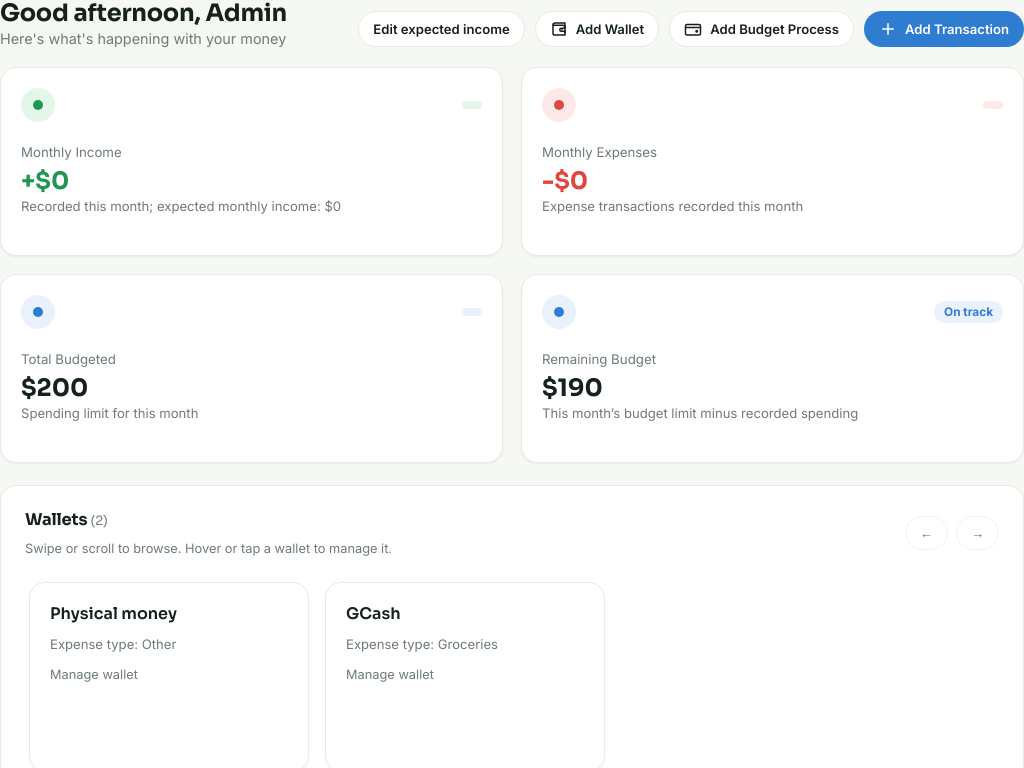
Test: asks for a password before deleting and shows a rejected password
The image size is (1024, 768).
Click the button with aria-label "Manage GCash": (465, 650) [342,599,588,701]
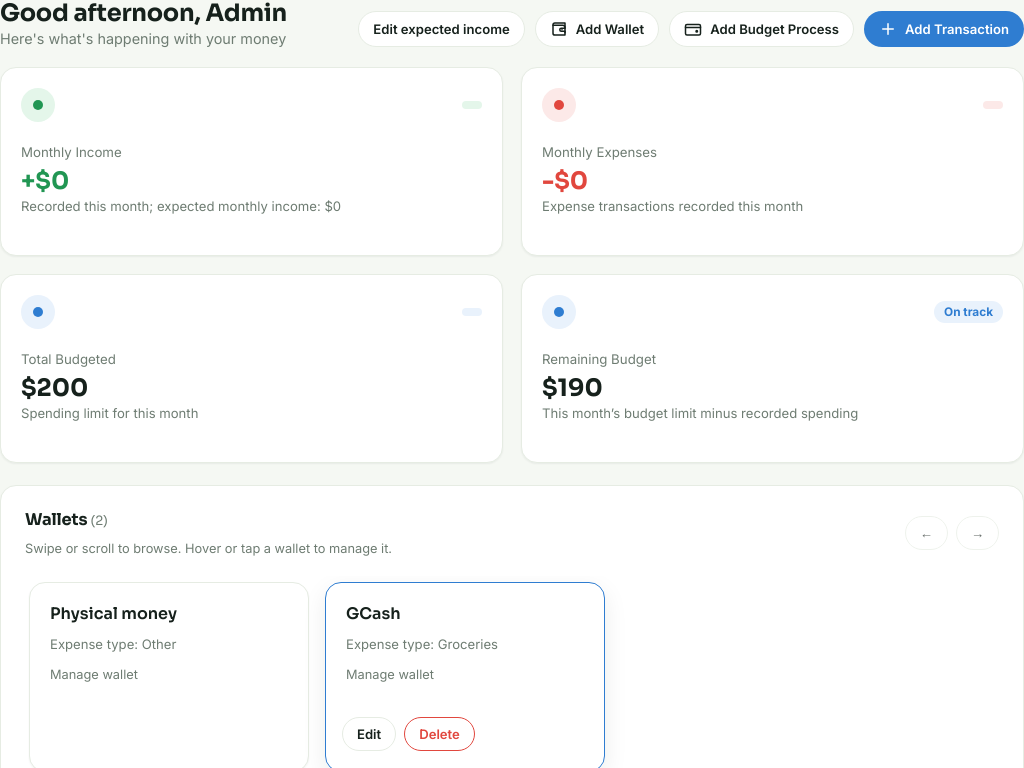
Click the button with aria-label "Edit GCash": (369, 734) [342,717,396,751]
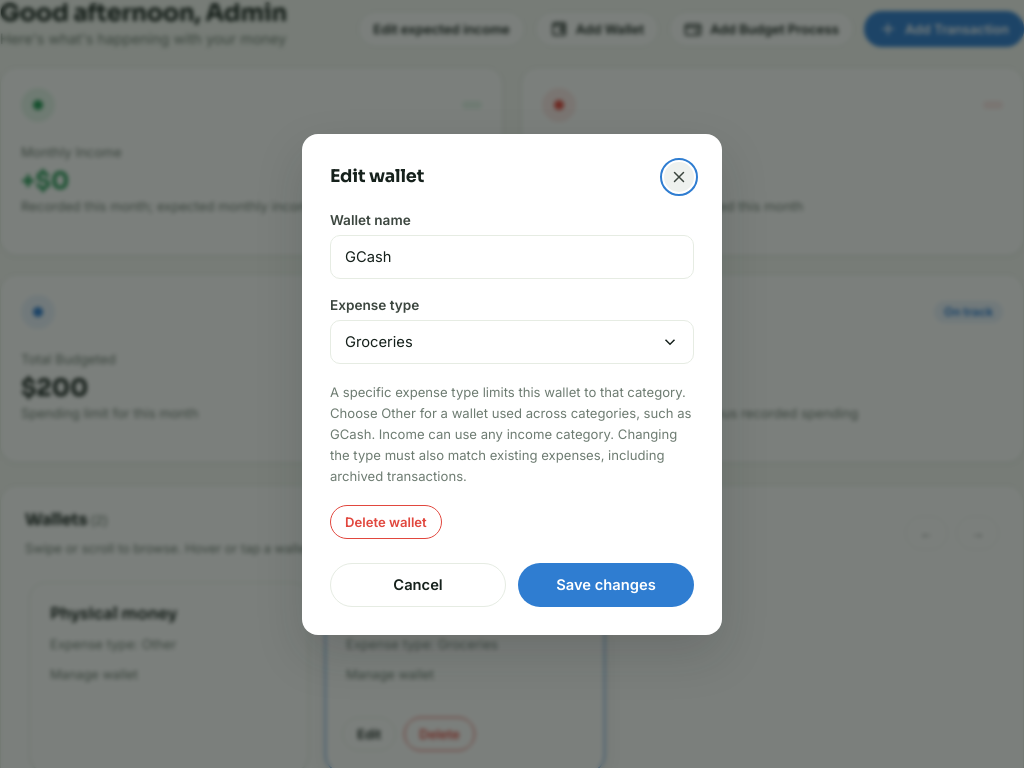
Click the button "Delete wallet": (386, 522) [330,504,442,538]
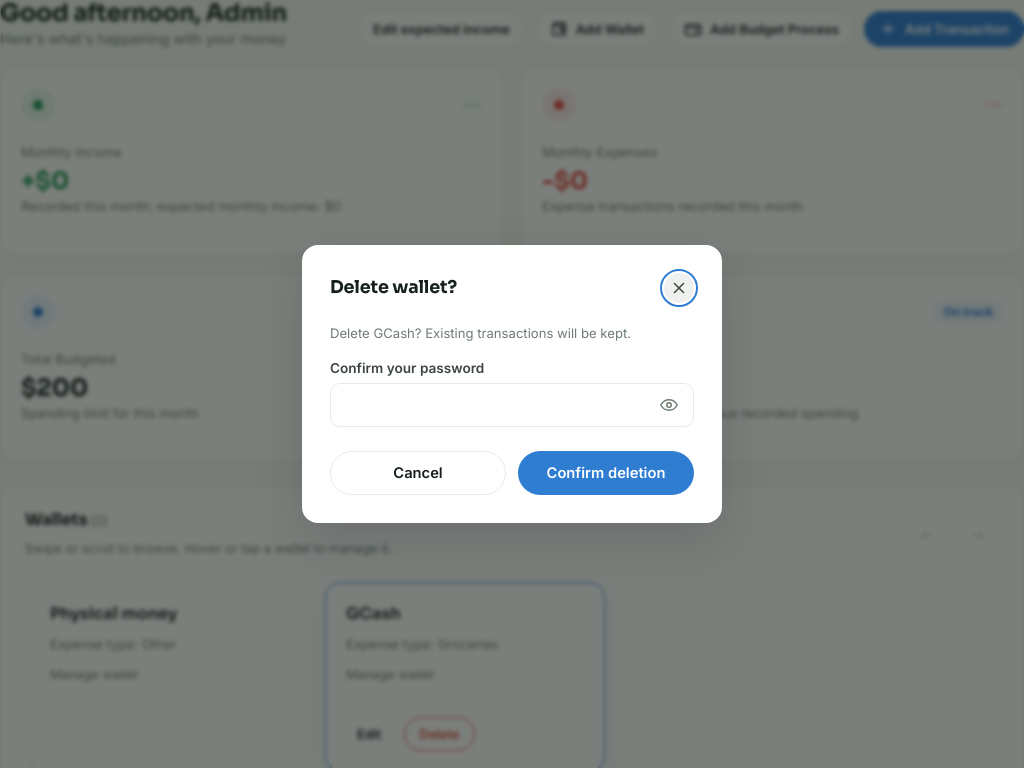
In the password field labelled "Confirm your password": (512, 405) [330,383,694,427], type "wrong-password"
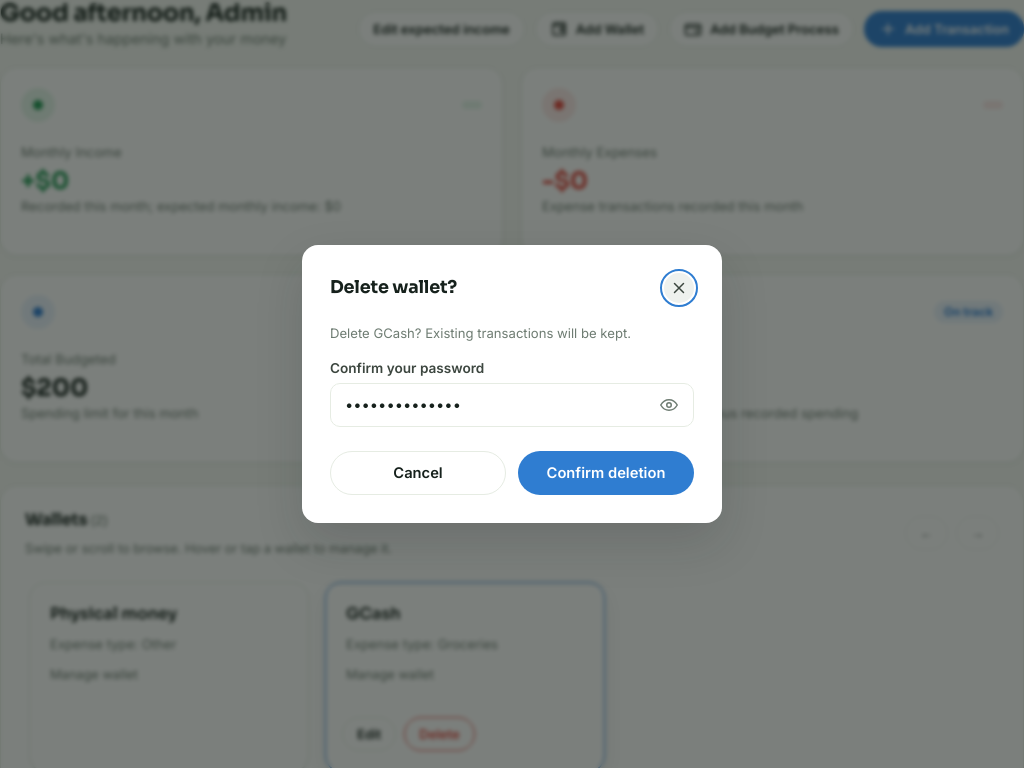
Click the button "Confirm deletion": (606, 473) [518,451,694,495]
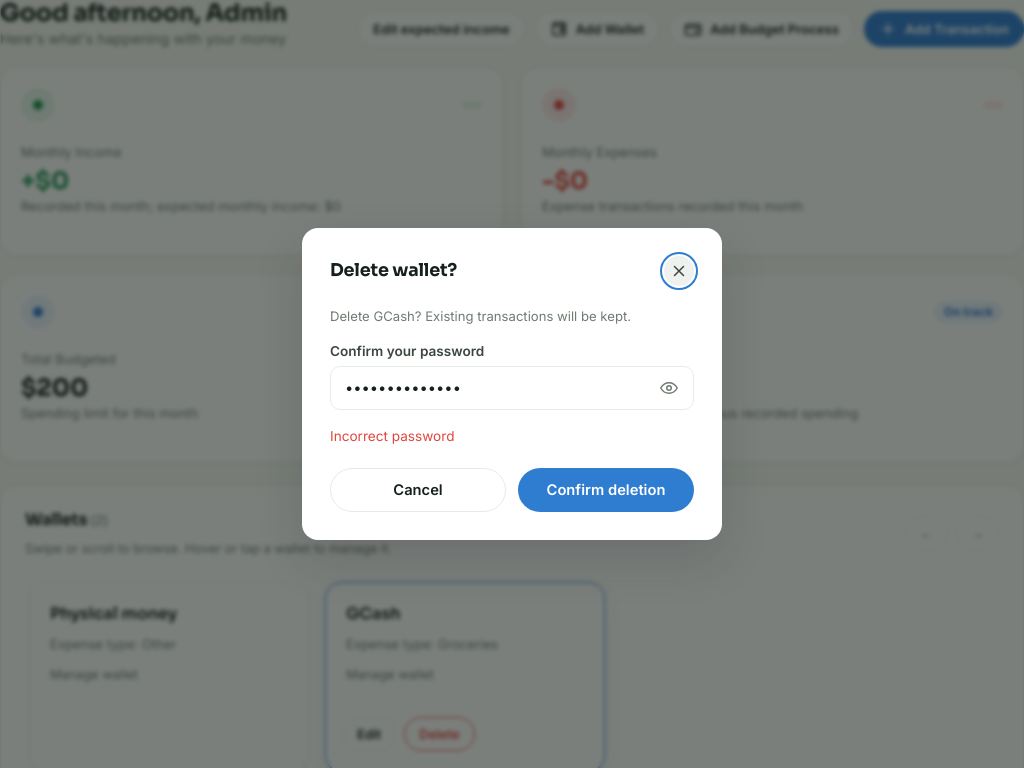
expect the message reads "Incorrect password": met, box [330,428,454,444]
